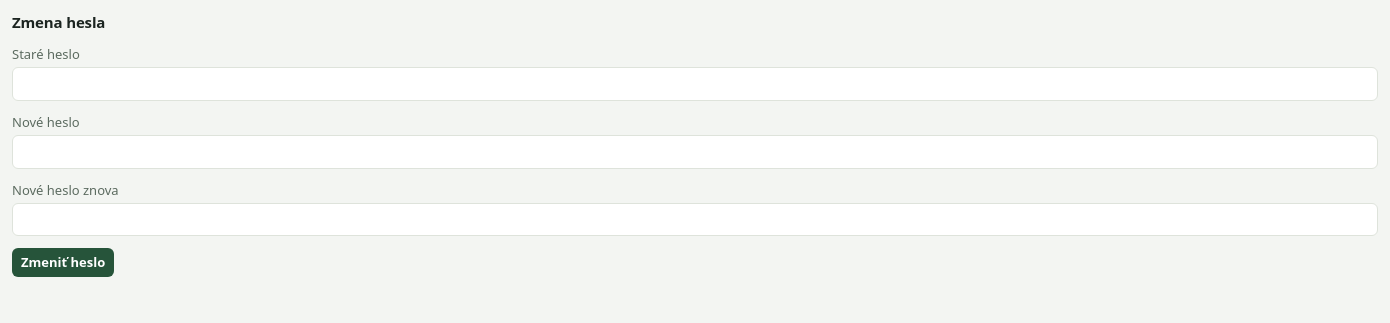
Test: zlé staré heslo zo servera ukáže chybovú hlášku servera
Step 1. Type "zle-heslo" into the password field labelled "Staré heslo" → x=695, y=84, box [12,67,1378,101]
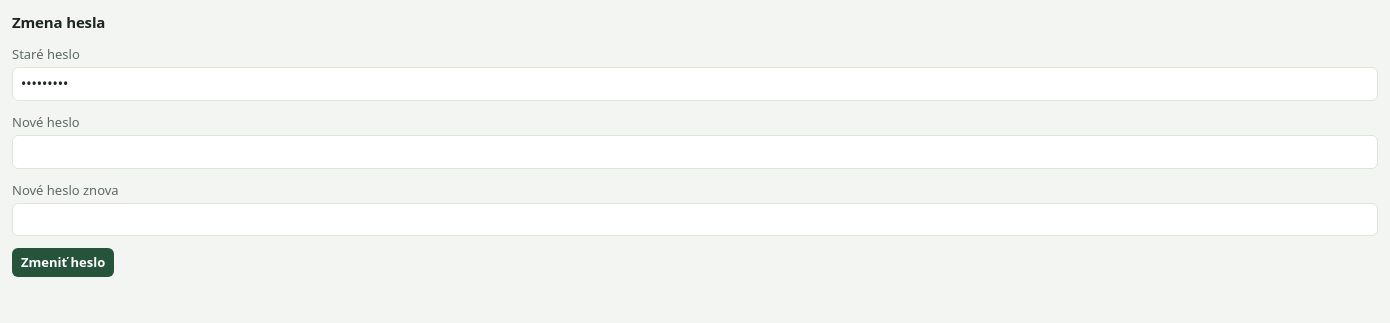
Step 2. Type "nove-heslo-123" into the password field labelled "Nové heslo" → x=695, y=152, box [12,135,1378,169]
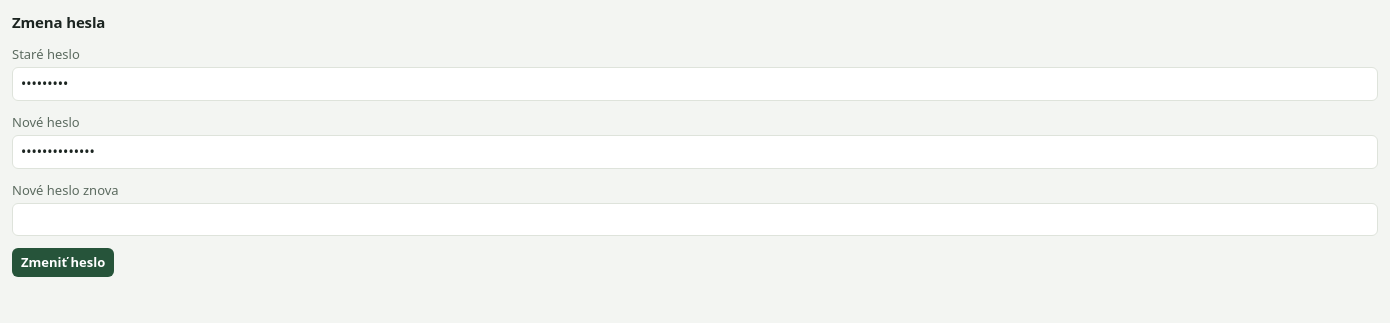
Step 3. Type "nove-heslo-123" into the password field labelled "Nové heslo znova" → x=695, y=220, box [12,203,1378,236]
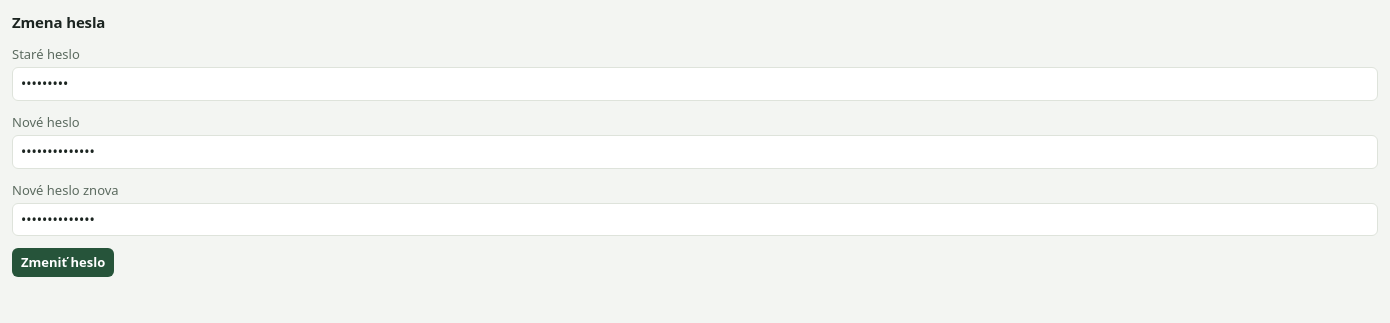
Step 4. Click the button "Zmeniť heslo" → x=63, y=262, box [12,248,114,276]
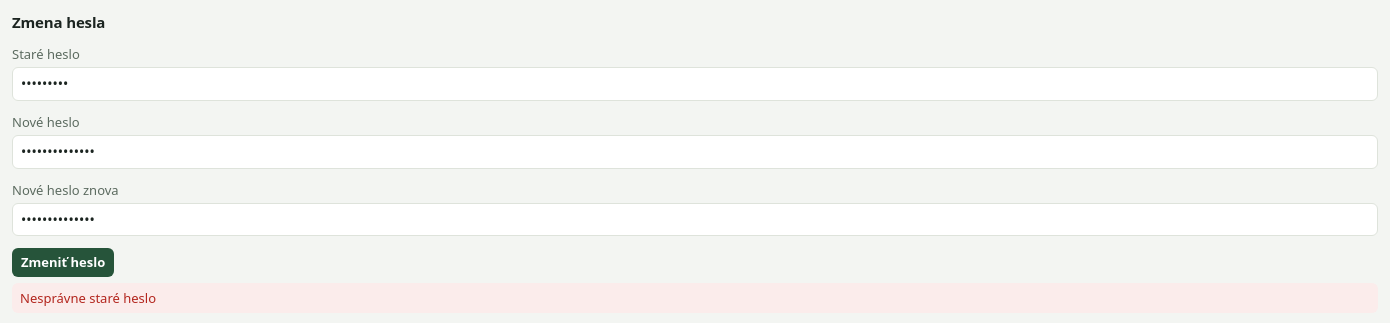
Expected: the message reads "Nesprávne staré heslo", [20,288,156,306]
